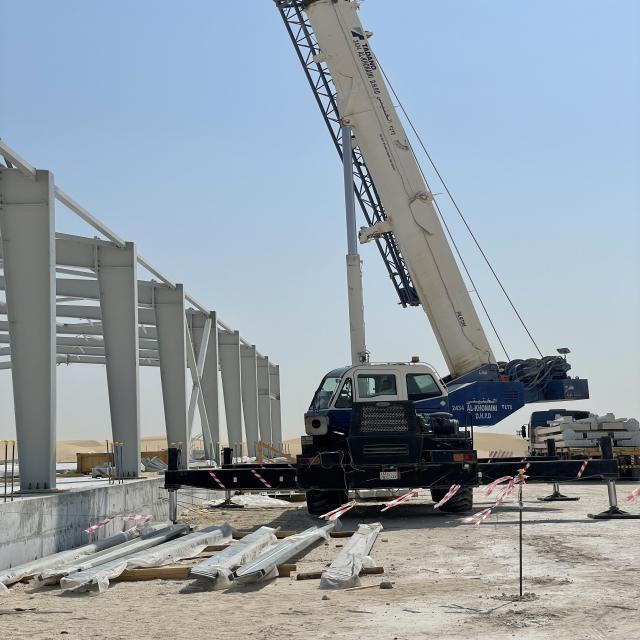Mobile Crane: (276, 1, 588, 511)
